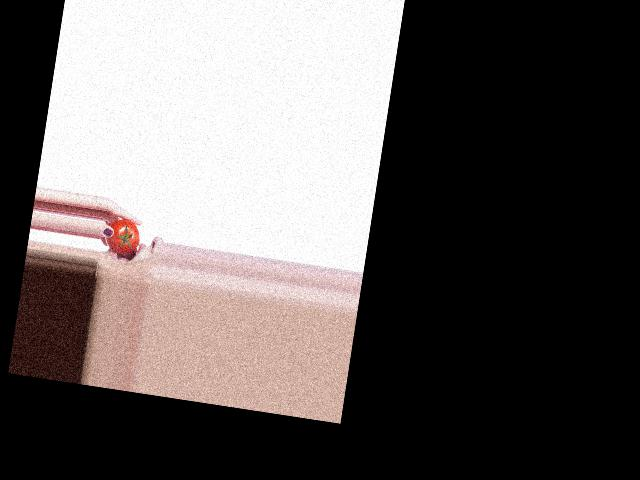tomato: (102, 216, 142, 255)
